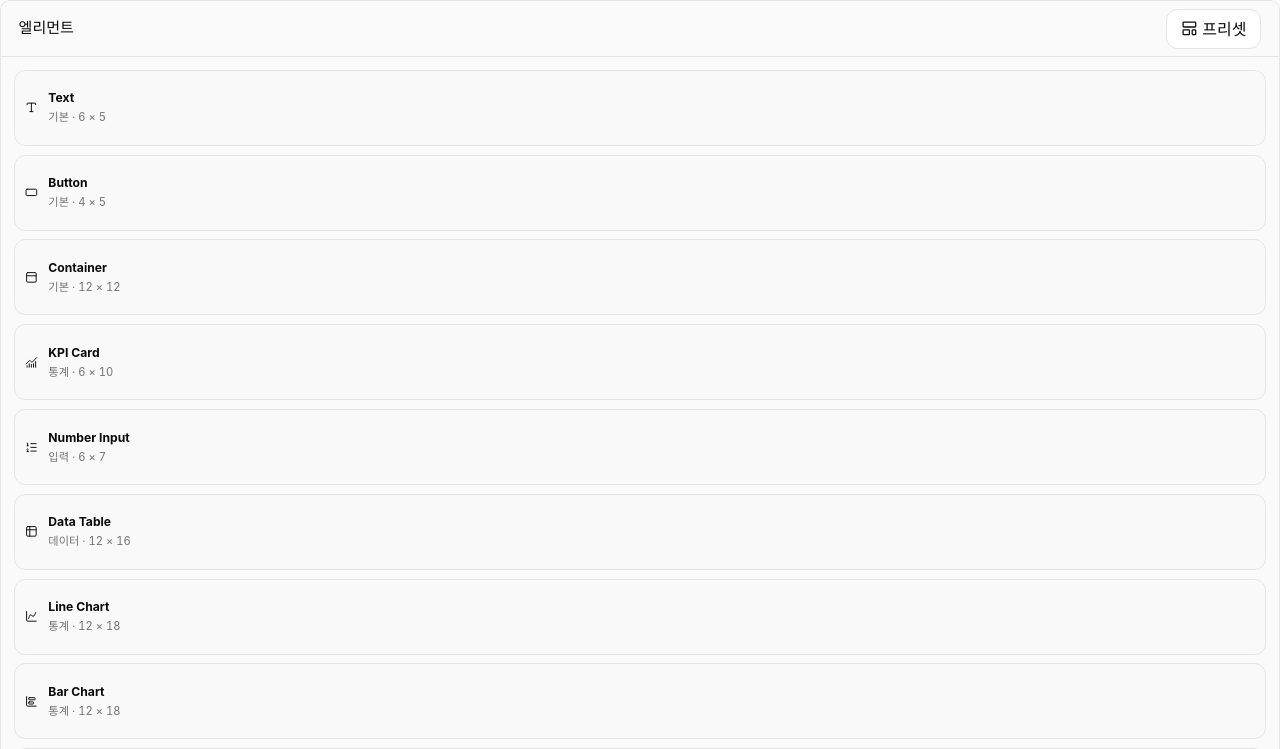
ElementCanvas Phase 5 interaction › measures placement-placeholder and placed-element DOMRect for keyboard preview and commit
The width and height of the screenshot is (1280, 749).
Expected: the button "프리셋" is enabled, left=1166, top=8, right=1261, bottom=48
Click the button with test id "palette-item-text": coordinates (32, 108) left=14, top=70, right=1266, bottom=146
(page scrolled)
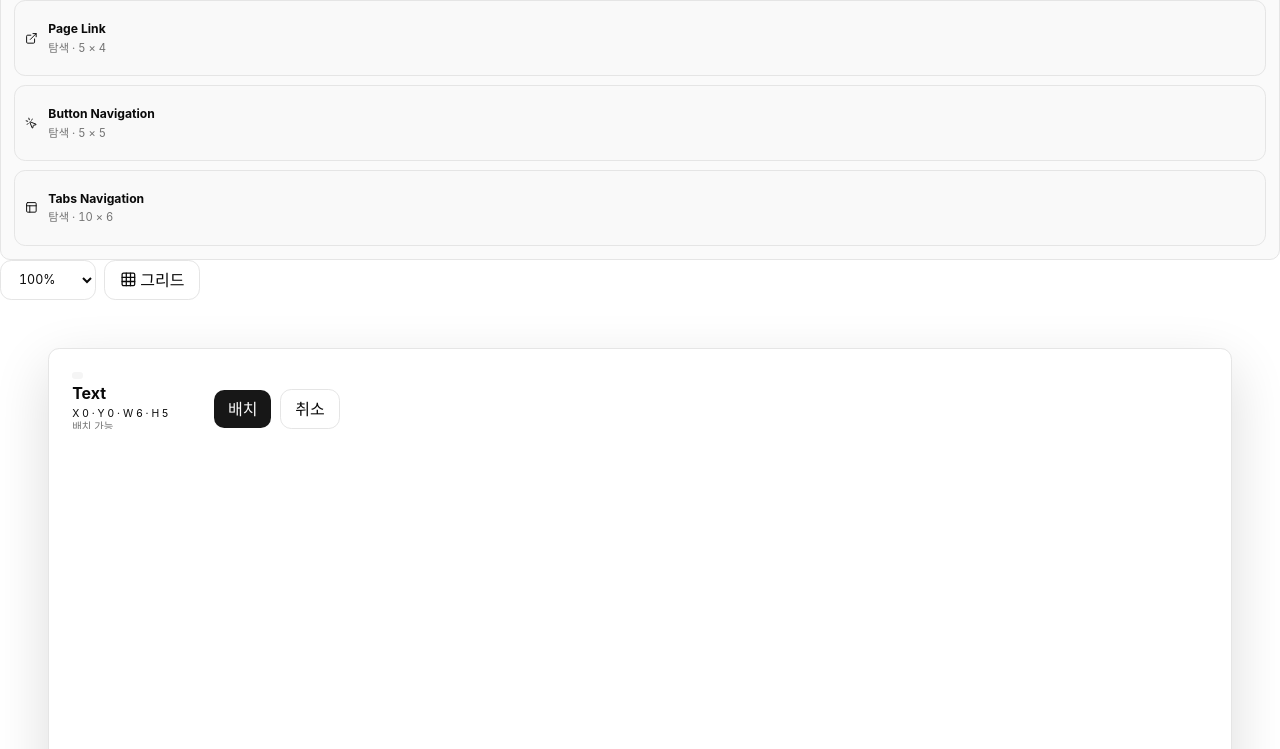
Press ArrowRight in the element with test id "placement-placeholder", box left=65, top=365, right=347, bottom=437
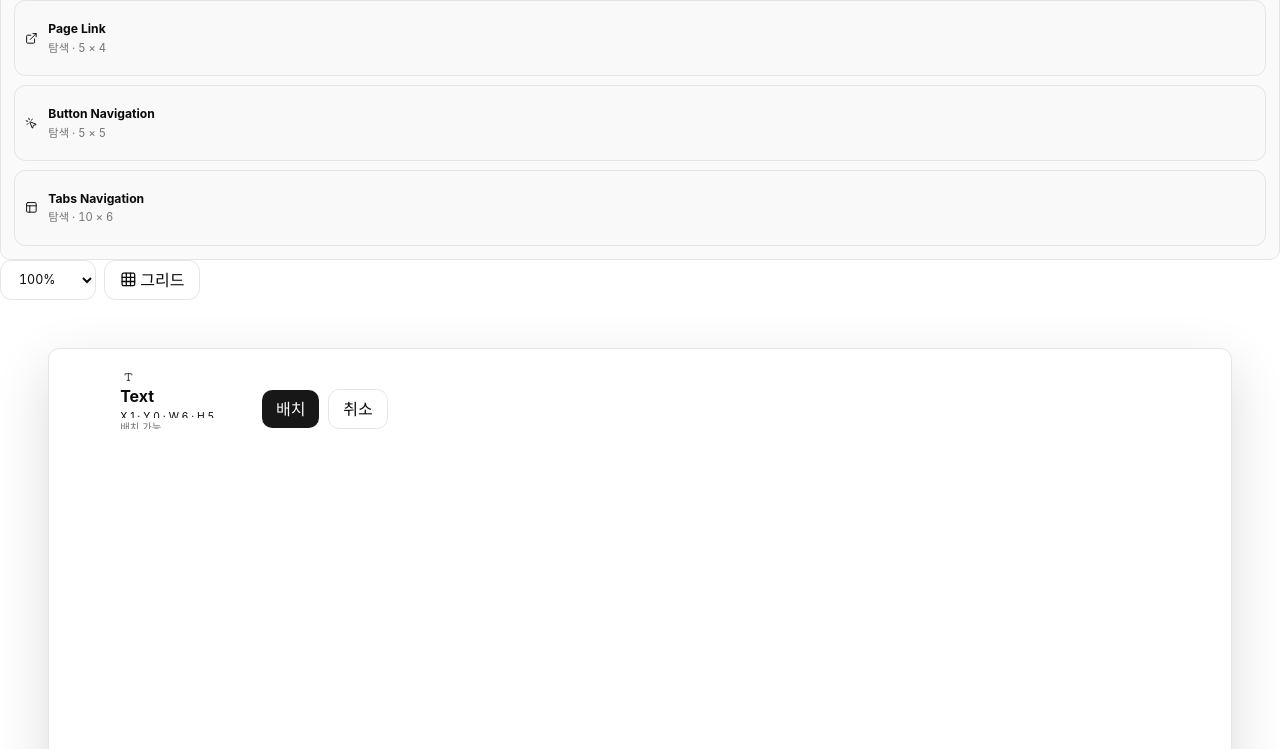
Expected: the element with test id "placement-placeholder" has attribute data-x="1"
Press Enter in the element with test id "placement-placeholder", box left=113, top=365, right=395, bottom=437
(page scrolled)
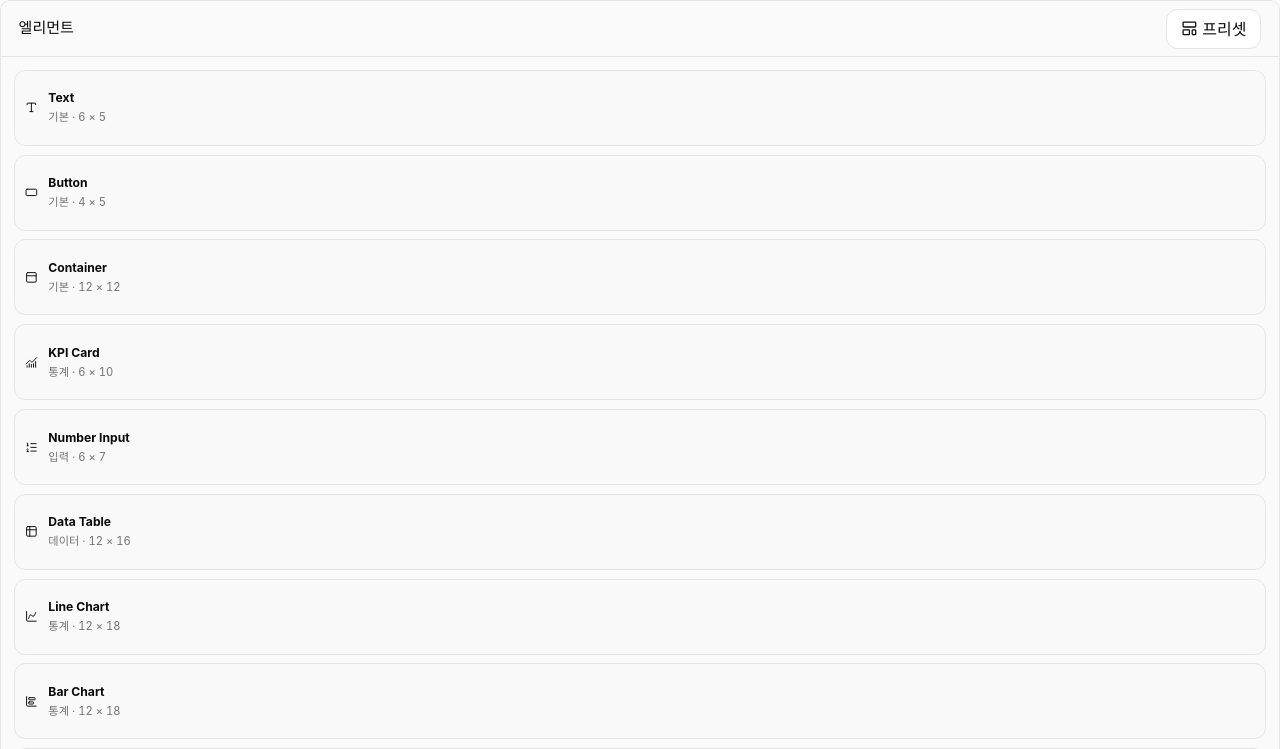
Expected: the element with test id "placement-placeholder" is gone
Expected: the button "프리셋" is enabled, left=1166, top=8, right=1261, bottom=48
